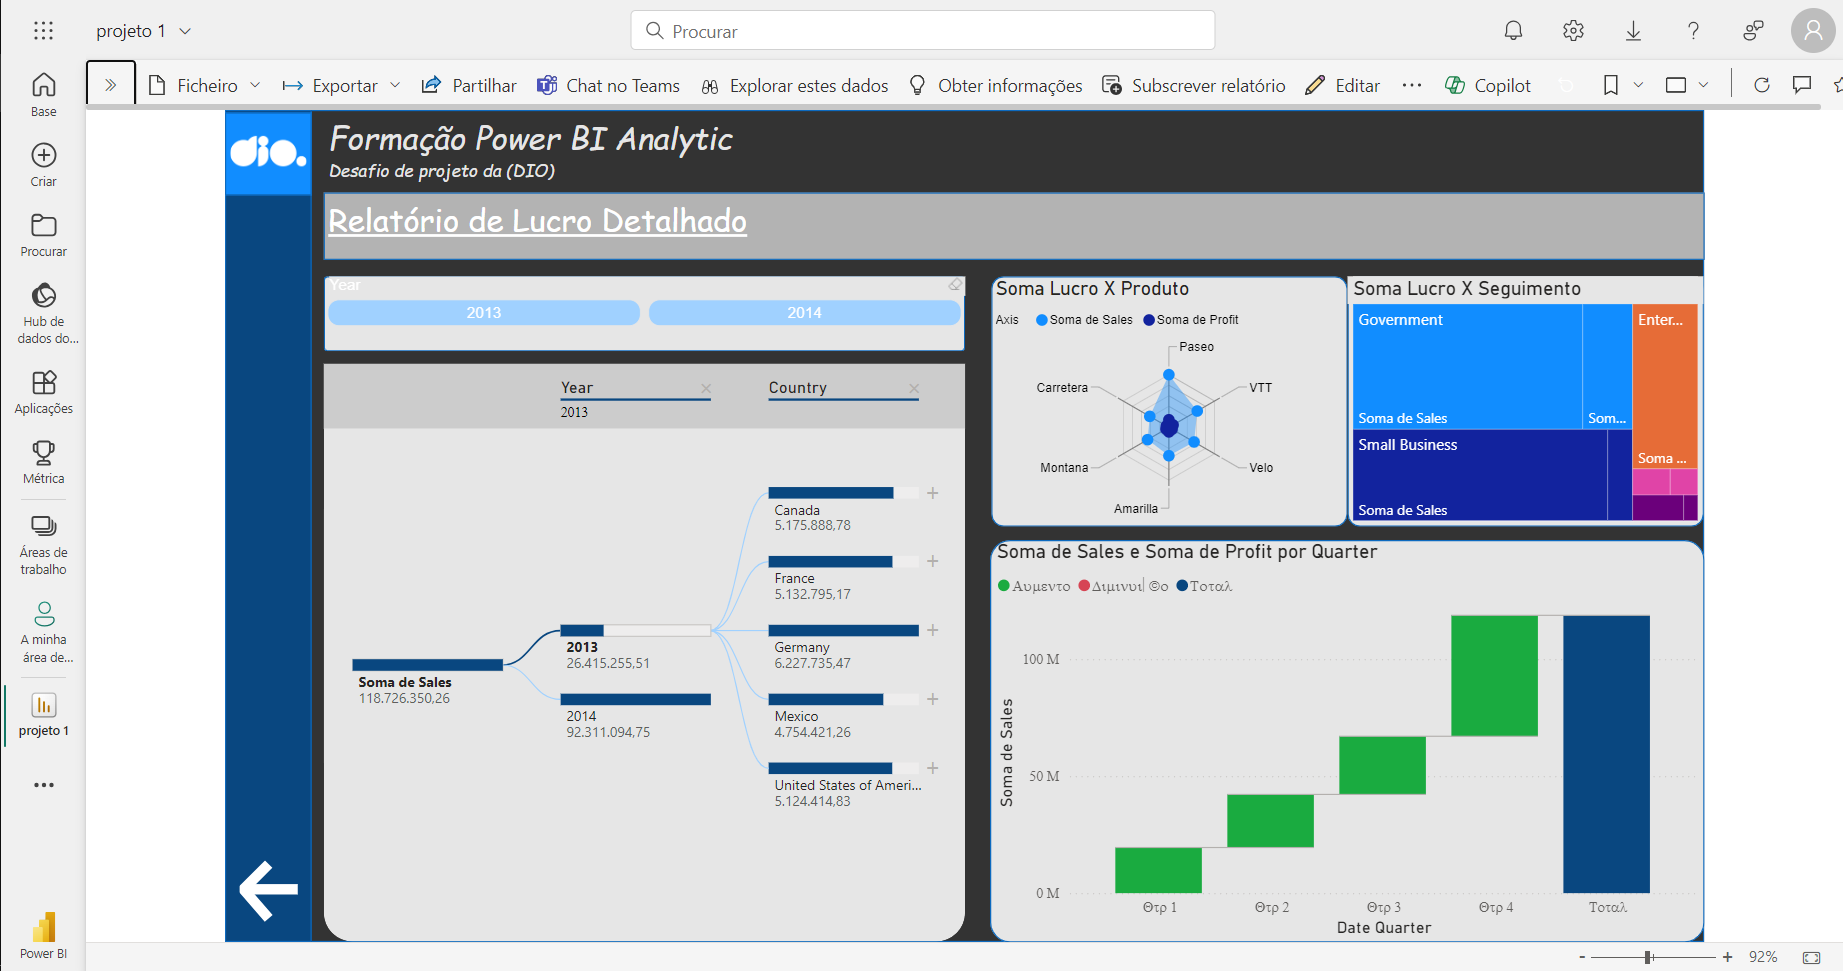

What the dashboard file says about the page in this screenshot:
{"tool":"powerbi","page":{"name":"Page 2","canvas":[1280,720],"ordinal":1},"visuals":[{"type":"shape","title":"corpo","box":[0,0,1280,720],"z":0},{"type":"shape","title":"corpo lteral","box":[0,0,75,720],"z":1000},{"type":"shape","title":"cabeca lateral","box":[0,1.7,75,71.7],"z":2000},{"type":"image","title":"logo","box":[0,0,75,71.7],"z":3000},{"type":"textbox","title":"cabecalho","box":[84.7,0,382.1,71.8],"z":4000},{"type":"shape","title":"corpo titulo","box":[85,71.7,1195,58.3],"z":5000},{"type":"textbox","title":"titulo","box":[84.5,71.8,381.8,48.2],"z":6000},{"type":"shape","title":"base esquerda superior","box":[85,143.3,555,65],"z":7000},{"type":"shape","title":"base inferior esquerda","box":[85,220,555,500],"z":8000},{"type":"shape","title":"base inferior direita","box":[661.7,371.7,618.3,348.3],"z":9000},{"type":"shape","title":"base direita superior equerda","box":[663.3,143.3,308.3,216.7],"z":10000},{"type":"shape","title":"base direita superior direita","box":[971.7,143.3,308.3,216.7],"z":11000},{"type":"actionButton","title":"pagina 1","box":[8.3,643.3,61.7,65],"z":12000},{"type":"decompositionTreeVisual","fields":{"Analyze":["Sum(financials. Sales)"],"ExplainBy":["financials.Date.Variation.Date Hierarchy.Year","financials.Country","financials.Date.Variation.Date Hierarchy.Quarter","financials.Date.Variation.Date Hierarchy.Month","financials.Date.Variation.Date Hierarchy.Day","financials.Segment"]},"box":[85,220,555,500],"z":13000},{"type":"RadarChart1446119667547","title":"Soma Lucro X Produto","fields":{"Y":["Sum(financials. Sales)","Sum(financials.Profit)"],"Category":["financials.Product"]},"box":[661.7,143.3,310,216.7],"z":13001},{"type":"treemap","title":"Soma Lucro X  Seguimento","fields":{"Values":["Sum(financials. Sales)","Sum(financials.Profit)"],"Group":["financials.Segment"]},"box":[971.7,143.3,308.3,216.7],"z":13002},{"type":"ChicletSlicer1448559807354","fields":{"Values":["Sum(financials. Sales)"],"Category":["financials.Date.Variation.Date Hierarchy.Year"]},"box":[85,143.3,555,66],"z":13003},{"type":"waterfallChart","fields":{"Y":["Sum(financials. Sales)"],"Category":["financials.Date.Variation.Date Hierarchy.Quarter"]},"box":[663.3,371.7,616.7,348.3],"z":13004}]}

Visuals, with their boxes on the page's 1280x720 design canvas (x1, y1, x2, y2). These are canvas units, not pixel positions in the 1843x971 screenshot, which may show the page scaled, cropped or inside an application window:
"corpo" shape: (x1=0, y1=0, x2=1280, y2=720)
"corpo lteral" shape: (x1=0, y1=0, x2=75, y2=720)
"cabeca lateral" shape: (x1=0, y1=2, x2=75, y2=73)
"logo" image: (x1=0, y1=0, x2=75, y2=72)
"cabecalho" textbox: (x1=85, y1=0, x2=467, y2=72)
"corpo titulo" shape: (x1=85, y1=72, x2=1280, y2=130)
"titulo" textbox: (x1=84, y1=72, x2=466, y2=120)
"base esquerda superior" shape: (x1=85, y1=143, x2=640, y2=208)
"base inferior esquerda" shape: (x1=85, y1=220, x2=640, y2=720)
"base inferior direita" shape: (x1=662, y1=372, x2=1280, y2=720)
"base direita superior equerda" shape: (x1=663, y1=143, x2=972, y2=360)
"base direita superior direita" shape: (x1=972, y1=143, x2=1280, y2=360)
"pagina 1" actionButton: (x1=8, y1=643, x2=70, y2=708)
decompositionTreeVisual - Sum(financials. Sales) x financials.Date.Variation.Date Hierarchy.Year: (x1=85, y1=220, x2=640, y2=720)
"Soma Lucro X Produto" RadarChart1446119667547: (x1=662, y1=143, x2=972, y2=360)
"Soma Lucro X  Seguimento" treemap: (x1=972, y1=143, x2=1280, y2=360)
ChicletSlicer1448559807354 - Sum(financials. Sales) x financials.Date.Variation.Date Hierarchy.Year: (x1=85, y1=143, x2=640, y2=209)
waterfallChart - Sum(financials. Sales) x financials.Date.Variation.Date Hierarchy.Quarter: (x1=663, y1=372, x2=1280, y2=720)
